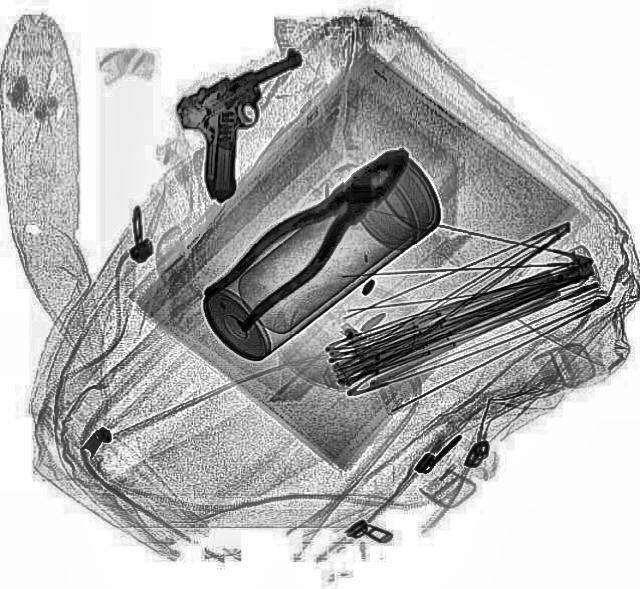Gun: (156, 46, 350, 201)
Pliers: (192, 130, 430, 336)
